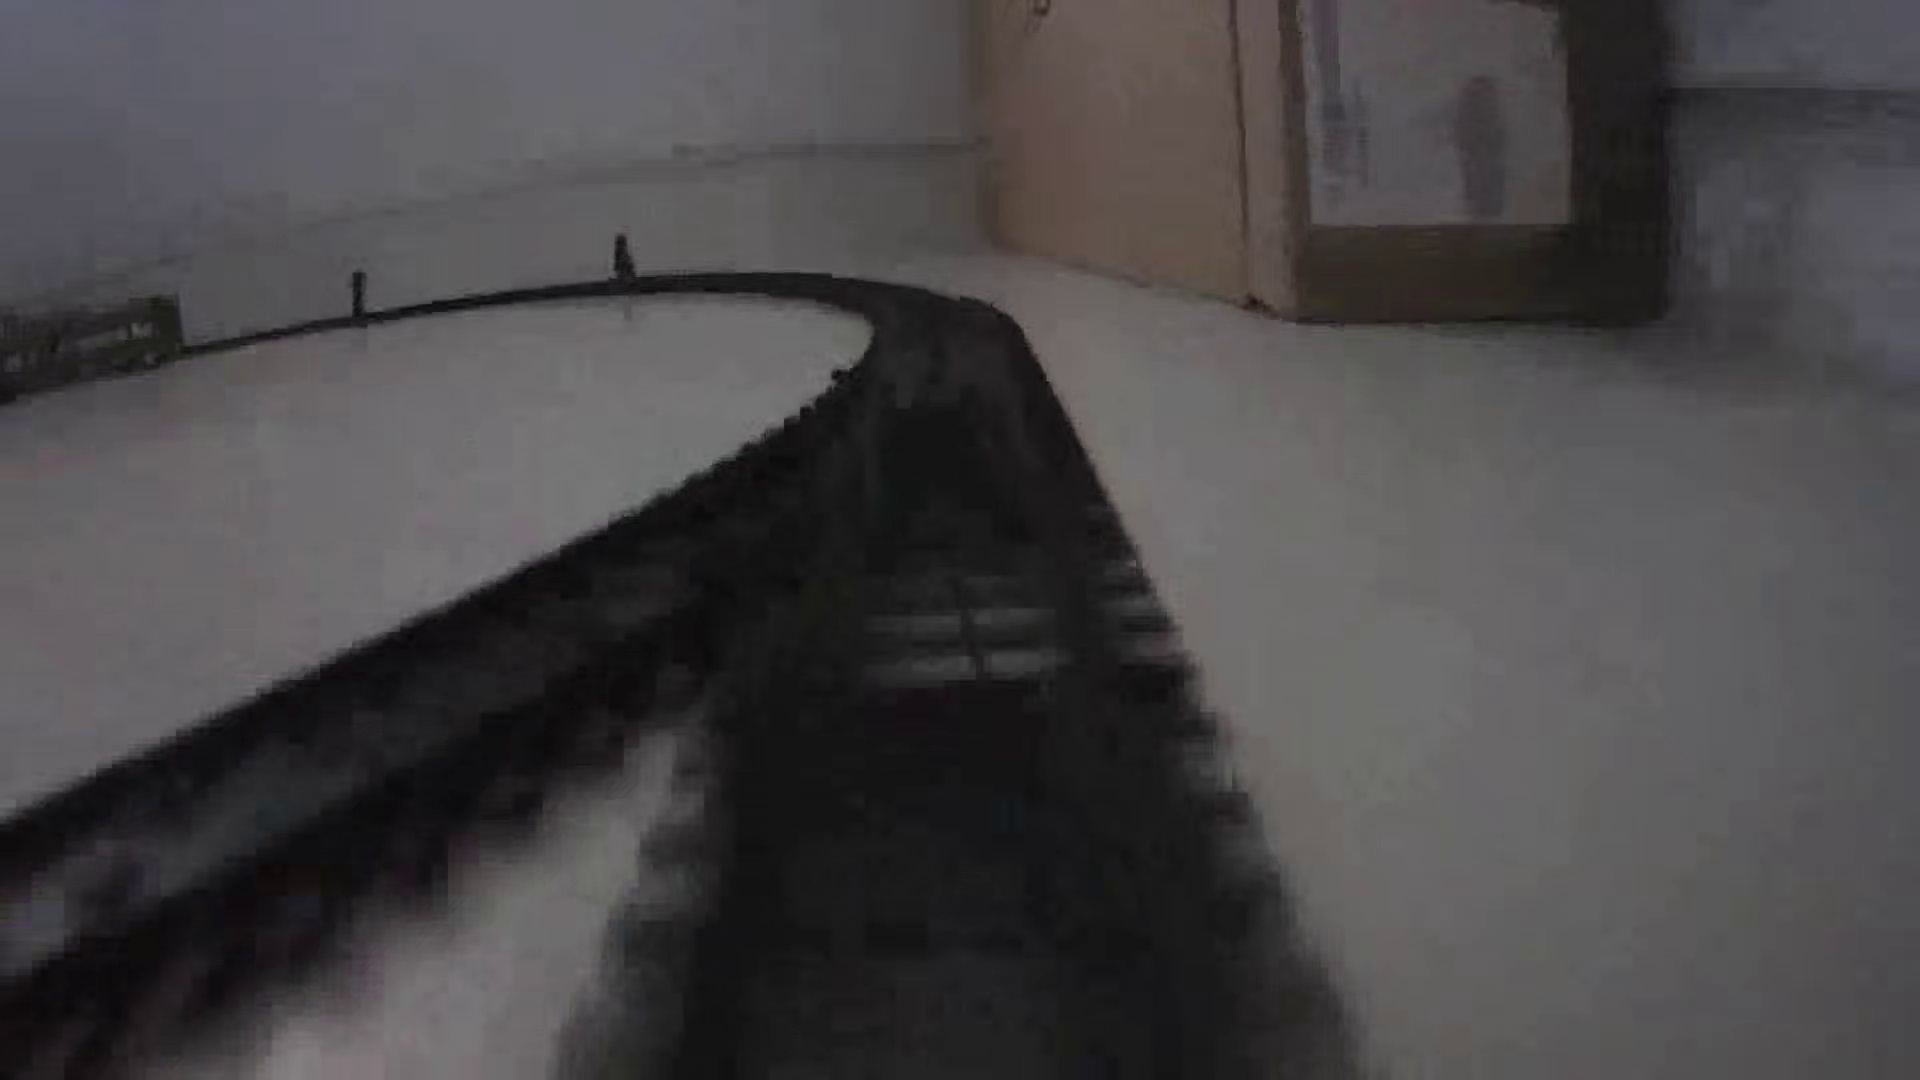people: (608, 231, 639, 285), (349, 266, 370, 318)
